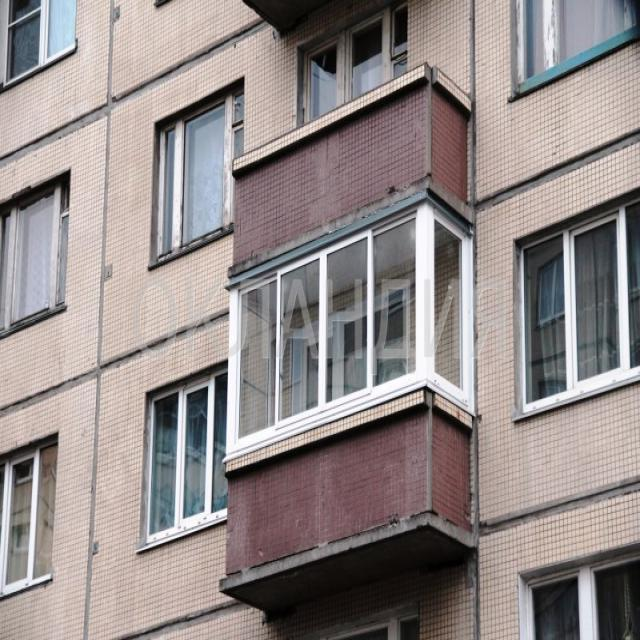Window: (525, 247, 632, 374), (151, 398, 224, 514), (521, 2, 629, 60), (167, 132, 236, 222), (3, 210, 65, 304), (526, 580, 636, 630), (297, 336, 409, 382), (4, 464, 50, 576), (303, 52, 401, 88), (7, 4, 78, 46), (347, 626, 416, 638)
